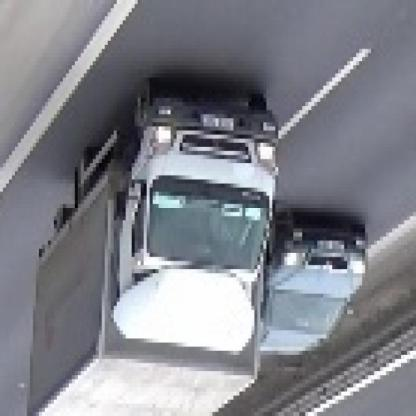truck: (31, 99, 288, 416)
